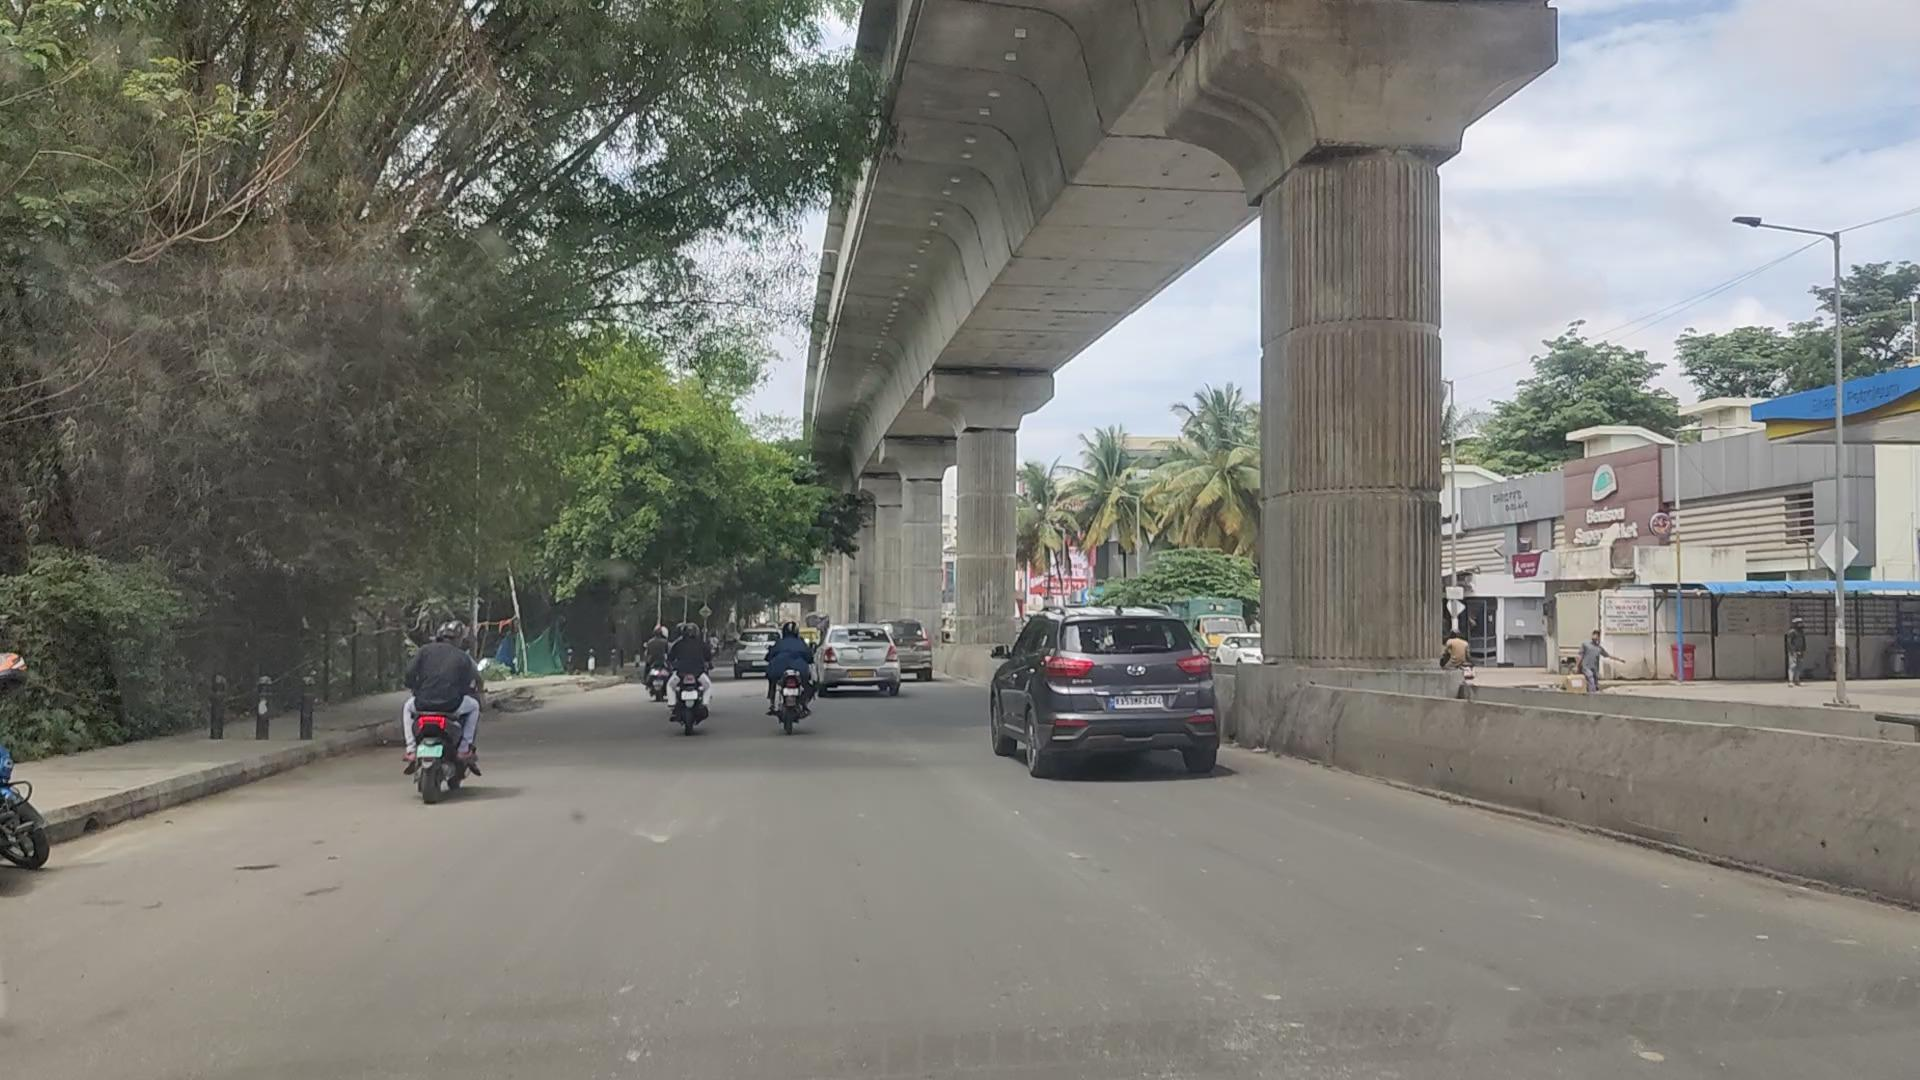LMV: (998, 597, 1247, 783), (393, 589, 484, 814), (760, 609, 829, 738), (665, 601, 717, 738)
